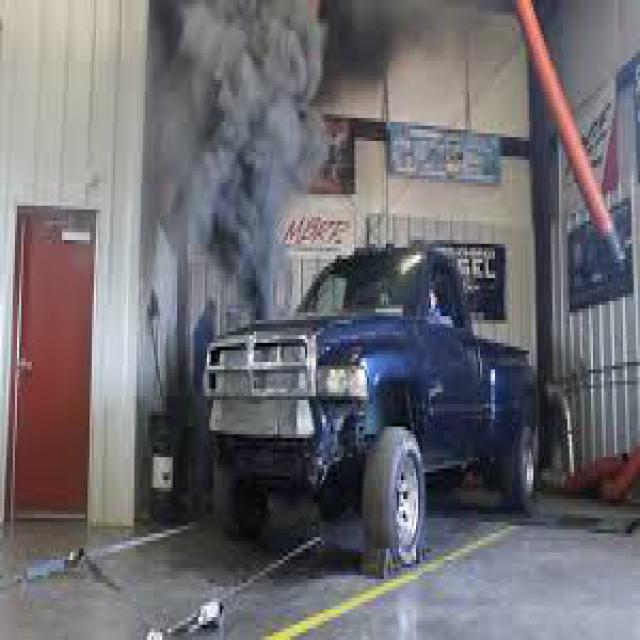smoke: (160, 4, 303, 316)
